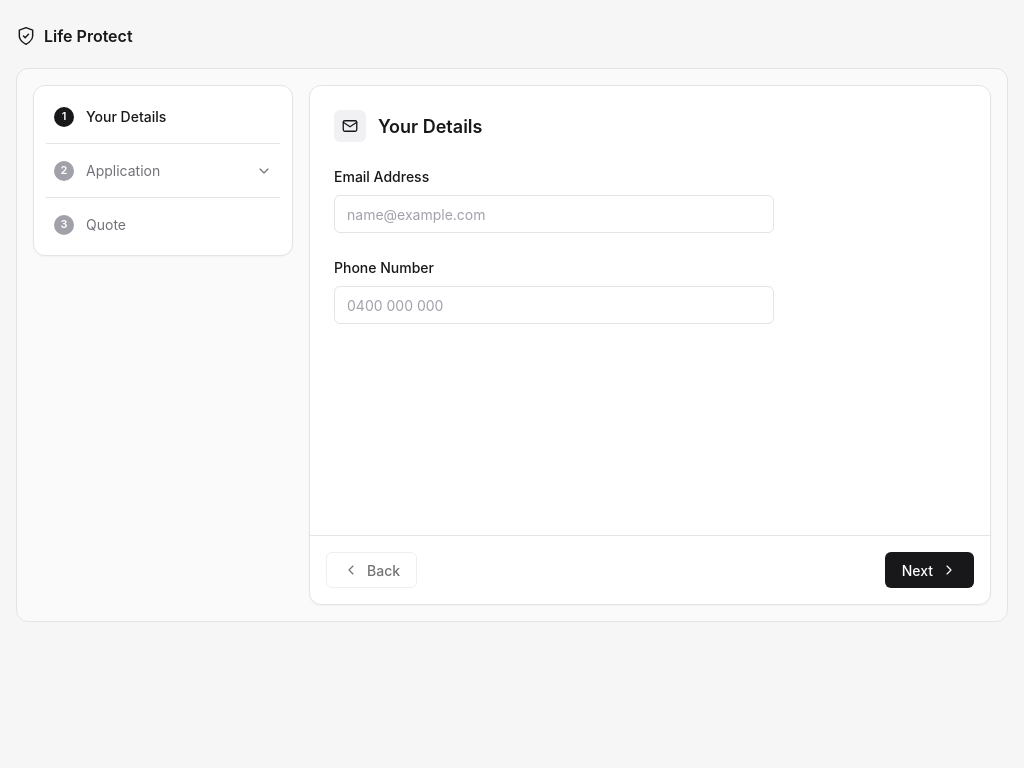
Scenario: insurance application journey › keeps the customer on the page and shows the error when quoting fails
Expected: the heading "Your Details" is shown, [378, 112, 482, 140]
Type "fail@example.com" into the field labelled "Email Address" at {"x": 554, "y": 214}, box [334, 195, 774, 233]
Type "0400 123 456" into the field labelled "Phone Number" at {"x": 554, "y": 305}, box [334, 286, 774, 324]
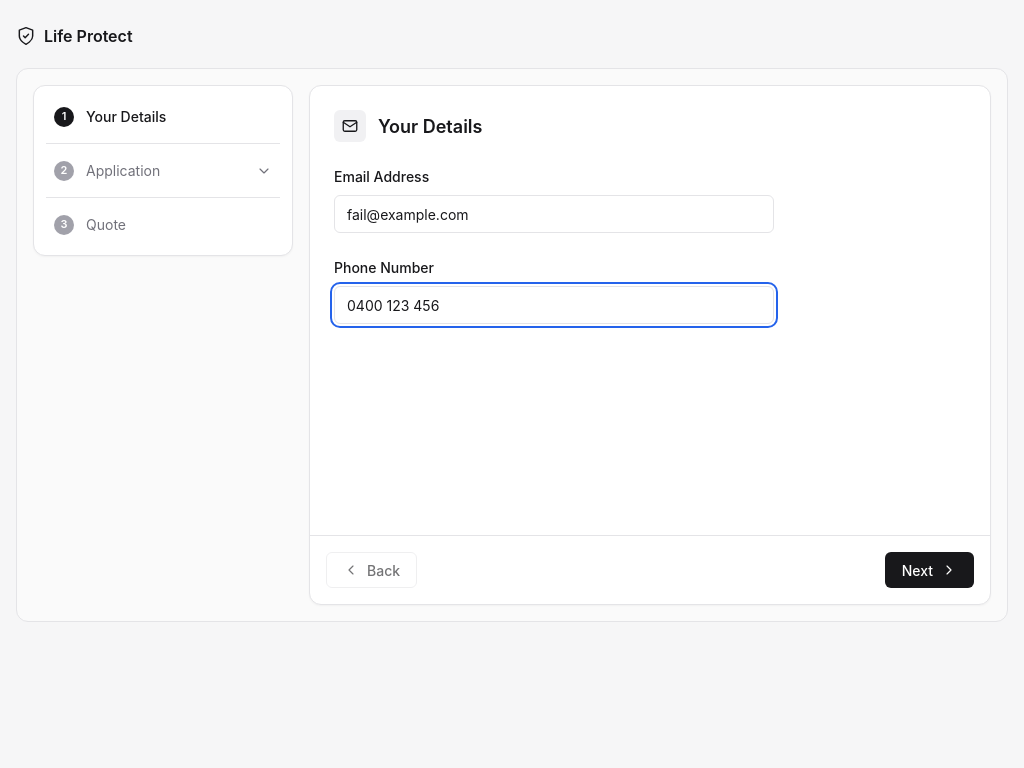
Click the button "Next" at {"x": 929, "y": 570}, box [885, 552, 974, 588]
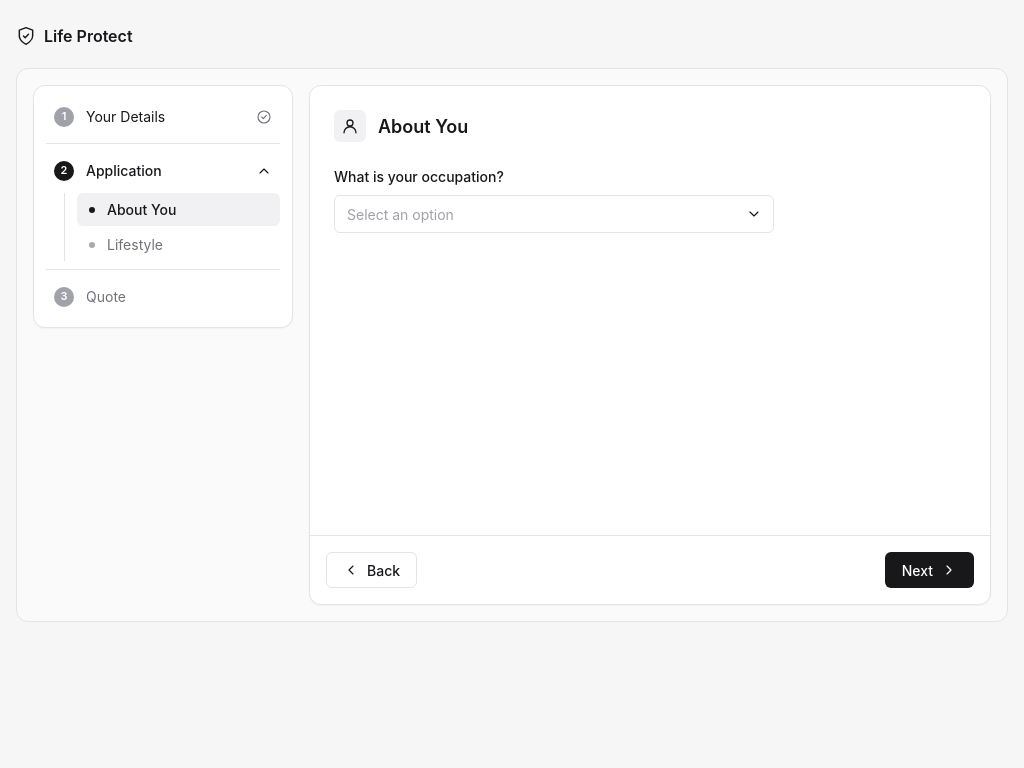
Now the heading "About You" is shown, box [378, 112, 468, 140]
Select "Office / Professional" in the dropdown labelled "What is your occupation?" at {"x": 554, "y": 214}, box [334, 195, 774, 233]
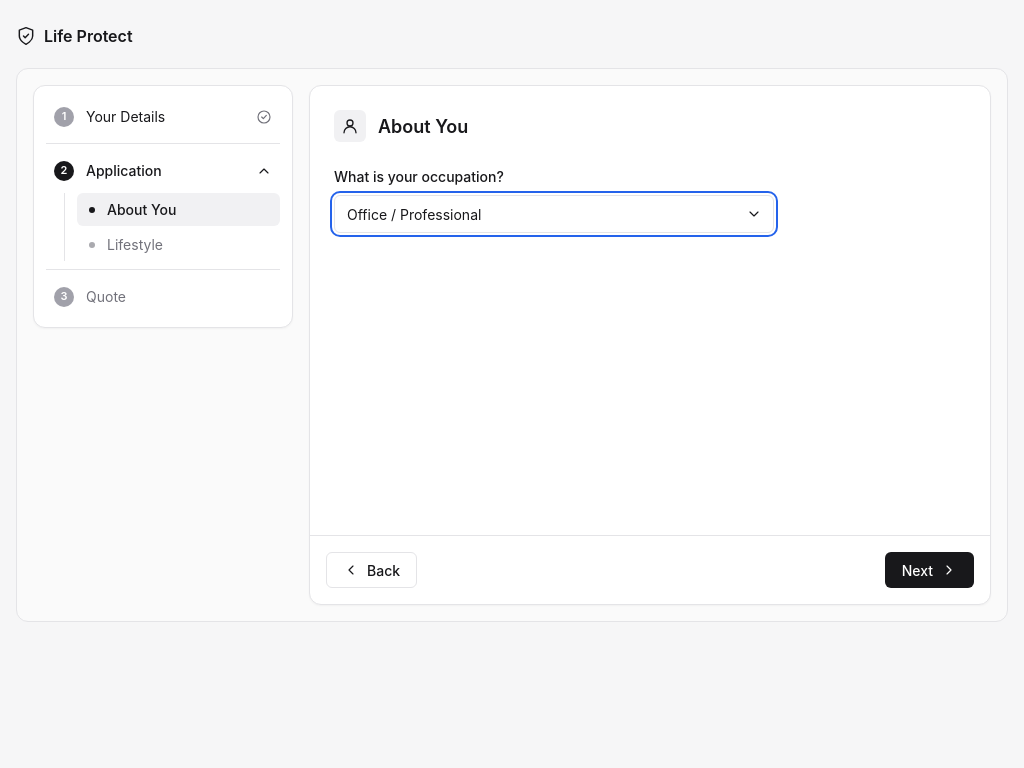
Click the button "Next" at {"x": 929, "y": 570}, box [885, 552, 974, 588]
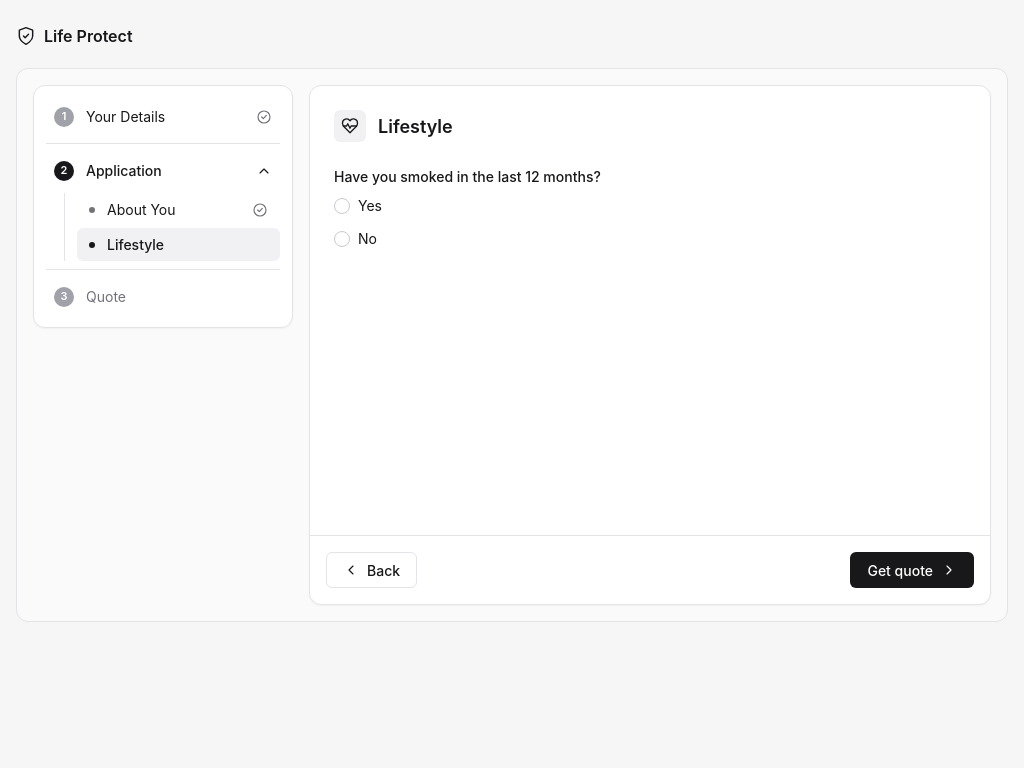
Now the heading "Lifestyle" is shown, box [378, 112, 453, 140]
Click the radio button labelled "No" at {"x": 342, "y": 238}, box [334, 230, 350, 246]
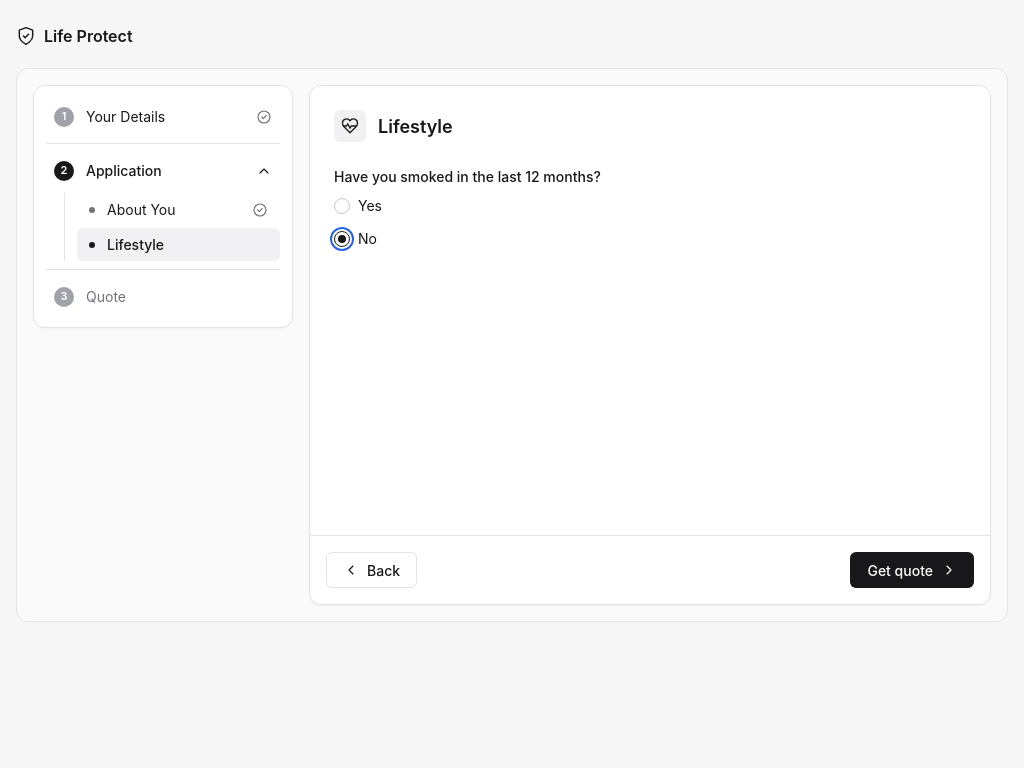
Click the button "Get quote" at {"x": 912, "y": 570}, box [850, 552, 974, 588]
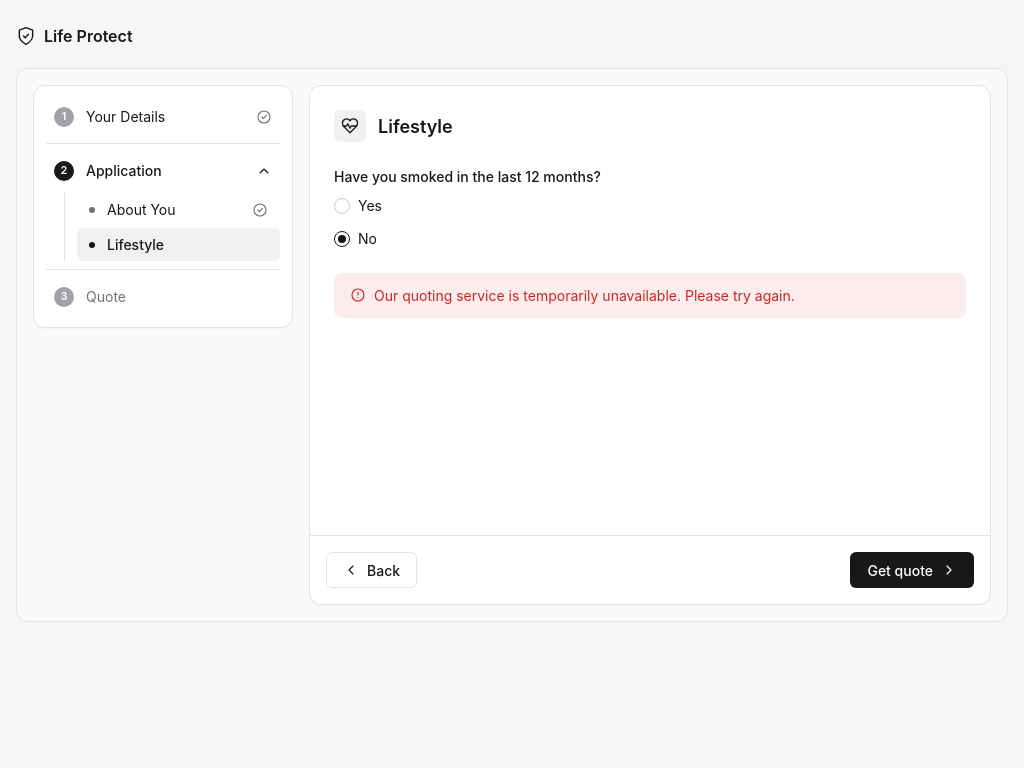
Now the heading "Lifestyle" is shown, box [378, 112, 453, 140]
Now the message shows "temporarily unavailable", box [374, 287, 795, 304]
